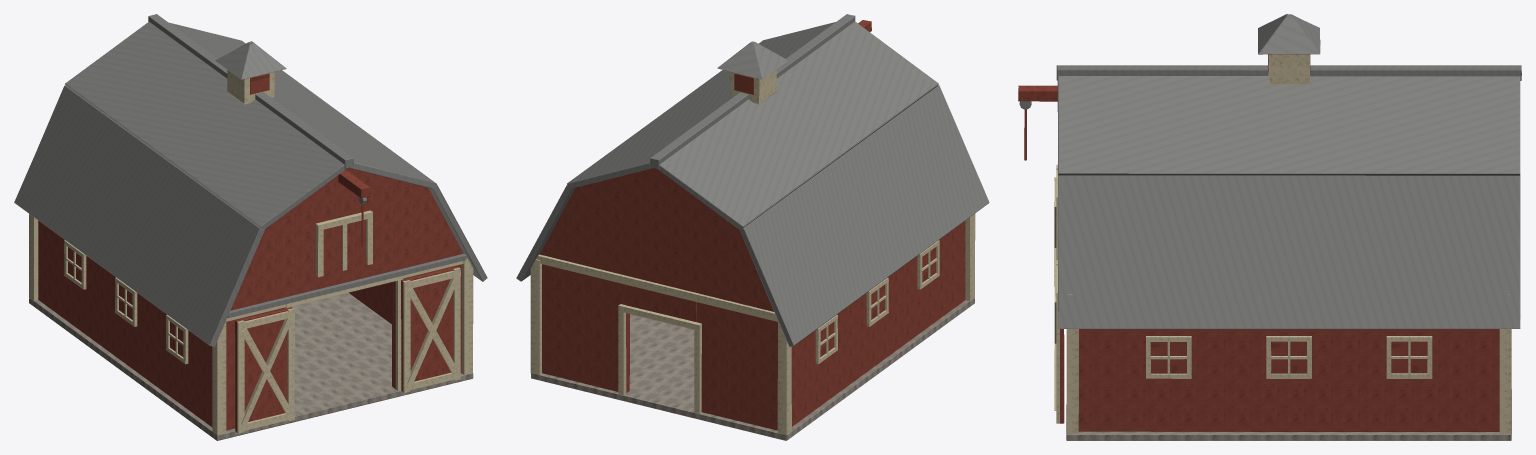
Rendered from barn.glb.
3 renders of one model, left to right at view 1: azimuth 30°, elevation 25°; view 2: azimuth 150°, elevation 25°; view 3: azimuth 270°, elevation 25°, orthographic. The views are drawn at different scales.
Visible parts, largest first — view 1: Barn; view 2: Barn; view 3: Barn.
Boxes of the visible parts, x1,y1,x2,y2 form: Barn: (14, 14, 487, 440); Barn: (516, 14, 989, 440); Barn: (1018, 14, 1521, 440).
Bounding box in the file's own units: 8.82 × 9.06 × 11.72.
Materials: 4 (4 with a texture image).
